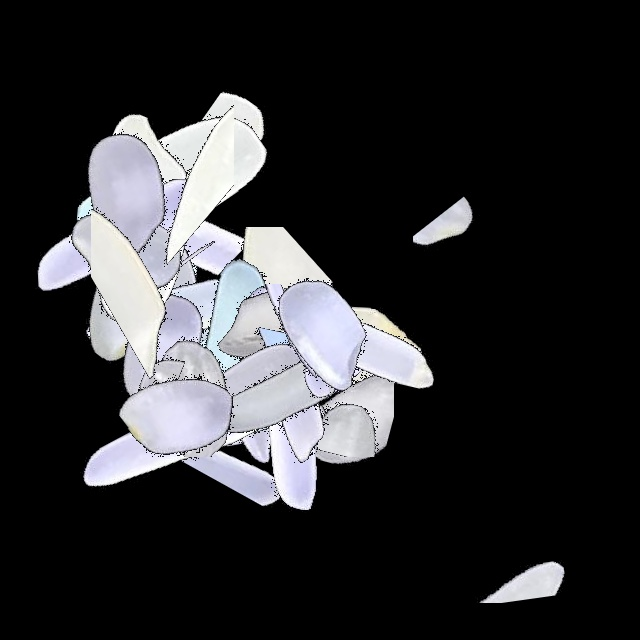Broken: (173, 279, 336, 529), (90, 83, 251, 333), (133, 374, 383, 535), (91, 296, 341, 457), (236, 277, 394, 527), (242, 236, 395, 486), (247, 273, 497, 425), (82, 150, 233, 400), (0, 157, 250, 306), (145, 289, 293, 539), (163, 261, 307, 511), (128, 227, 378, 365), (247, 200, 379, 450), (156, 284, 286, 534), (91, 134, 220, 384), (114, 36, 234, 286), (115, 284, 365, 401), (372, 487, 622, 603), (161, 71, 275, 321), (238, 236, 349, 486), (229, 346, 479, 457), (209, 260, 320, 510), (29, 166, 279, 272), (19, 145, 269, 247), (78, 268, 328, 368), (413, 135, 512, 385), (3, 331, 253, 424), (248, 220, 329, 470), (231, 255, 308, 505)
Full: (148, 245, 398, 495), (22, 194, 272, 444), (29, 125, 279, 375), (87, 211, 337, 461), (50, 317, 300, 567), (167, 281, 417, 531), (204, 210, 454, 460), (0, 179, 250, 429), (101, 230, 351, 480), (38, 225, 288, 475), (43, 57, 293, 307), (158, 246, 408, 496), (149, 198, 399, 448), (14, 96, 264, 346), (107, 265, 357, 515), (157, 264, 407, 514), (7, 110, 257, 360), (0, 126, 250, 376), (0, 70, 250, 320), (53, 288, 303, 538), (201, 205, 451, 455)
